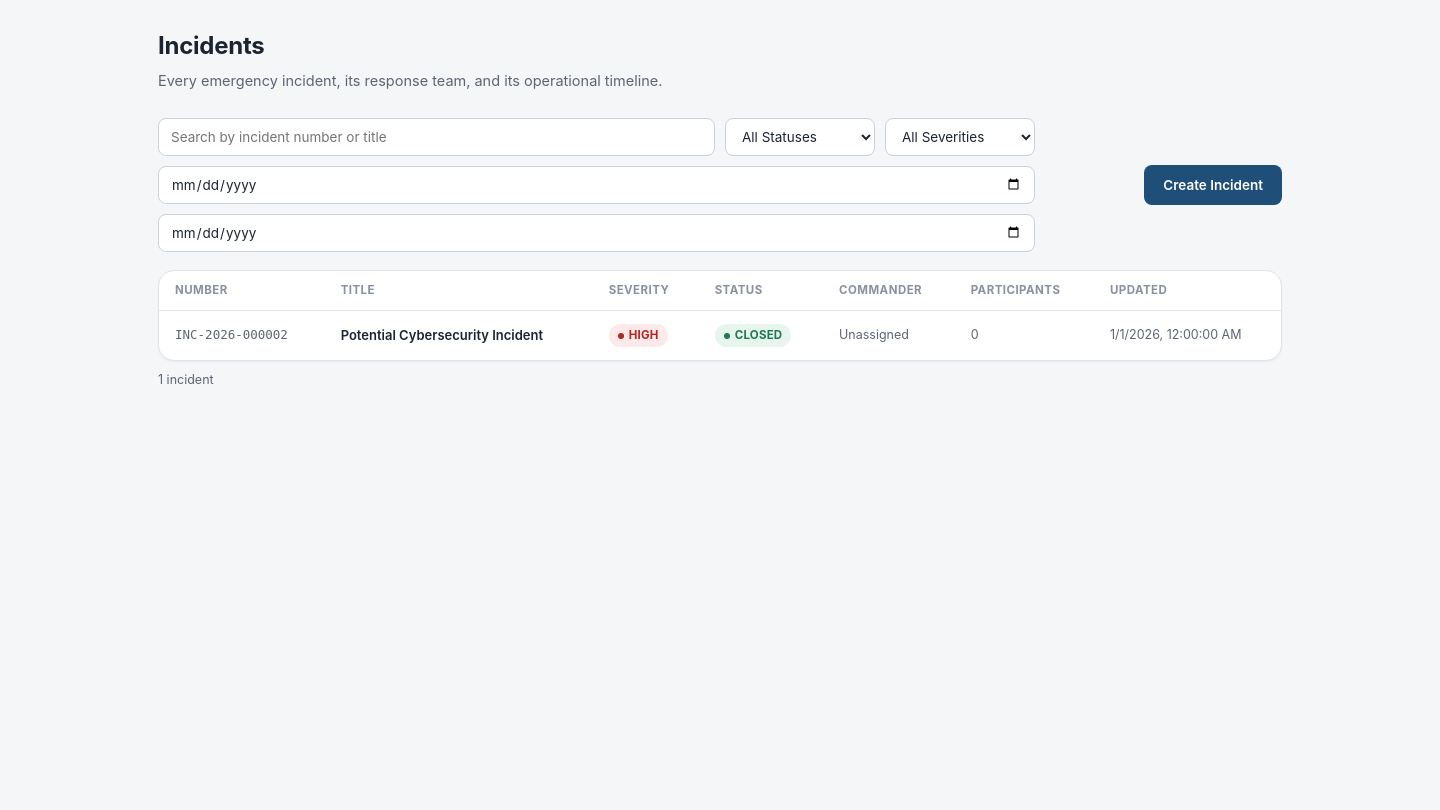
Test: IncidentsPage › hides edit and lifecycle controls for a closed incident
Click the text "Potential Cybersecurity Incident".
click(459, 335)  # box [325, 310, 593, 360]
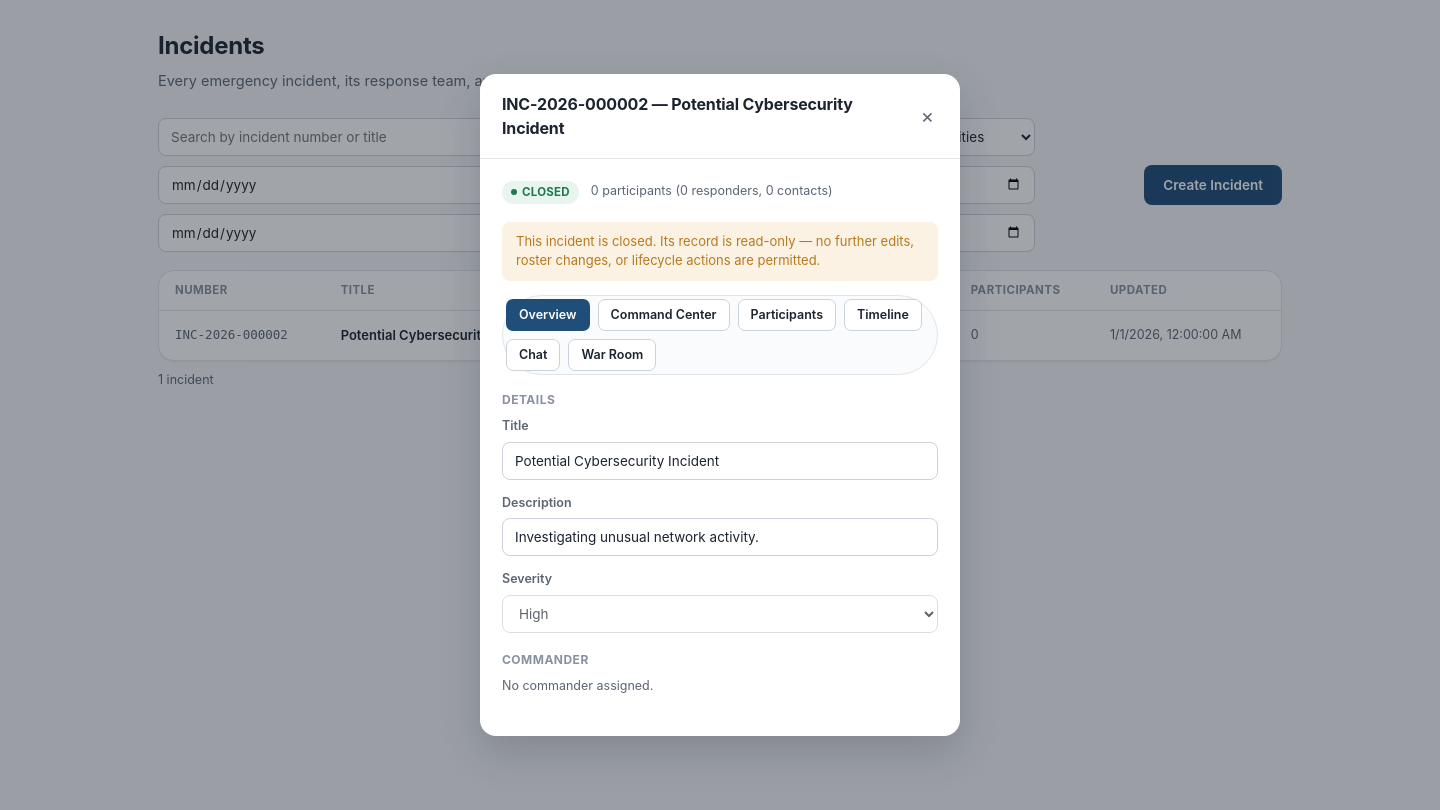
Expected: the text "This incident is closed" is shown, [516, 233, 914, 268]
